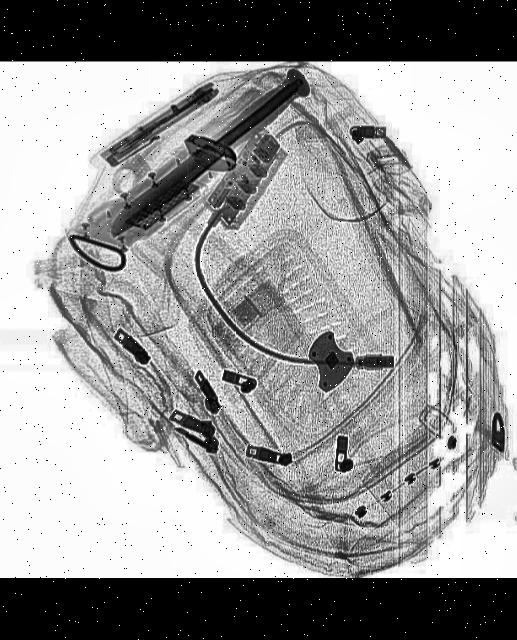Knife: (89, 62, 314, 250)
